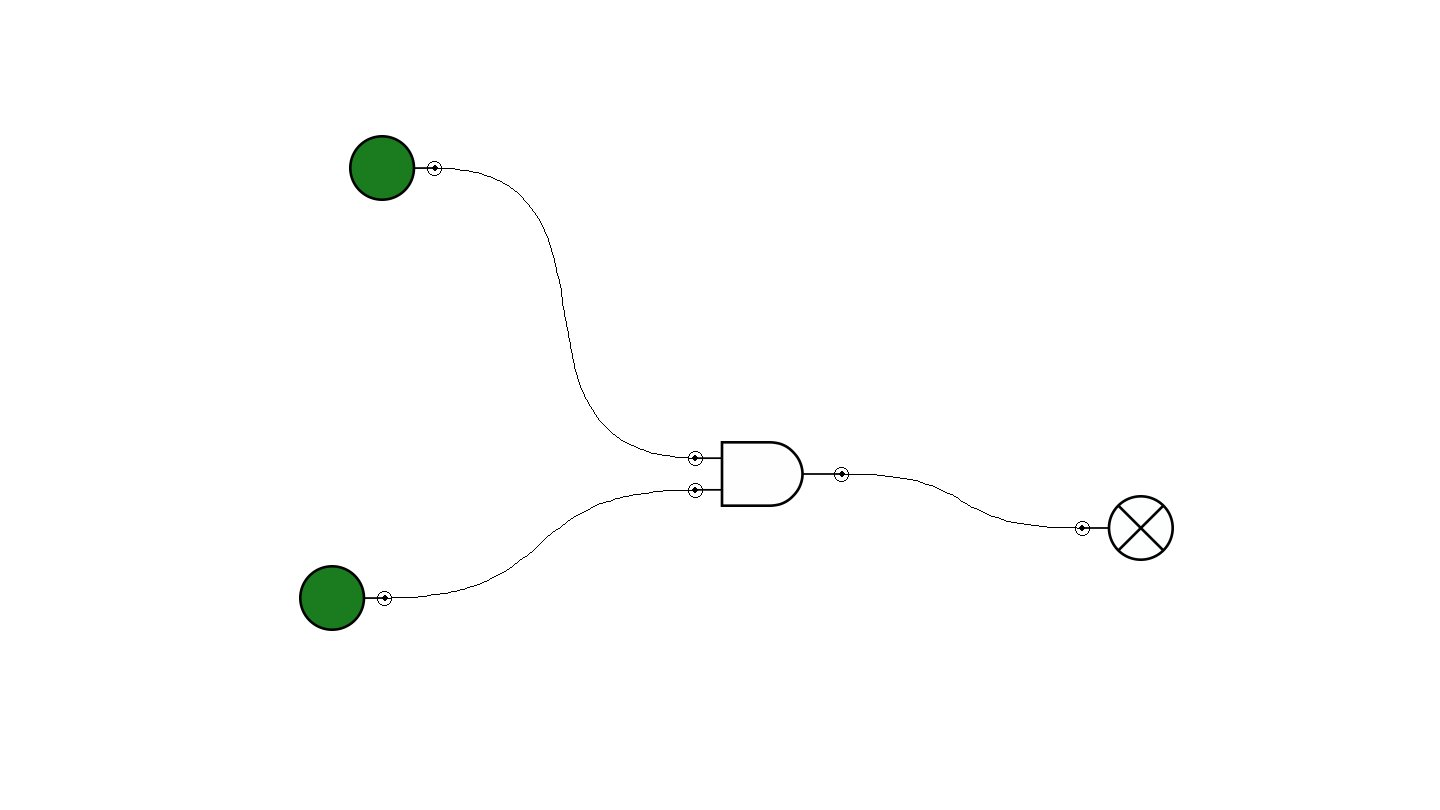and: (688, 441, 849, 507)
bulb: (1075, 495, 1174, 561)
switch_True: (299, 565, 392, 631), (349, 135, 442, 201)
